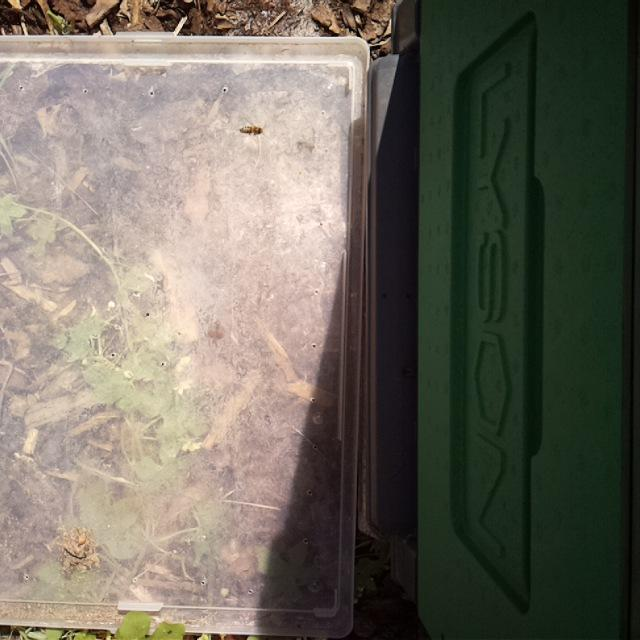worker-bee: (237, 121, 271, 144)
